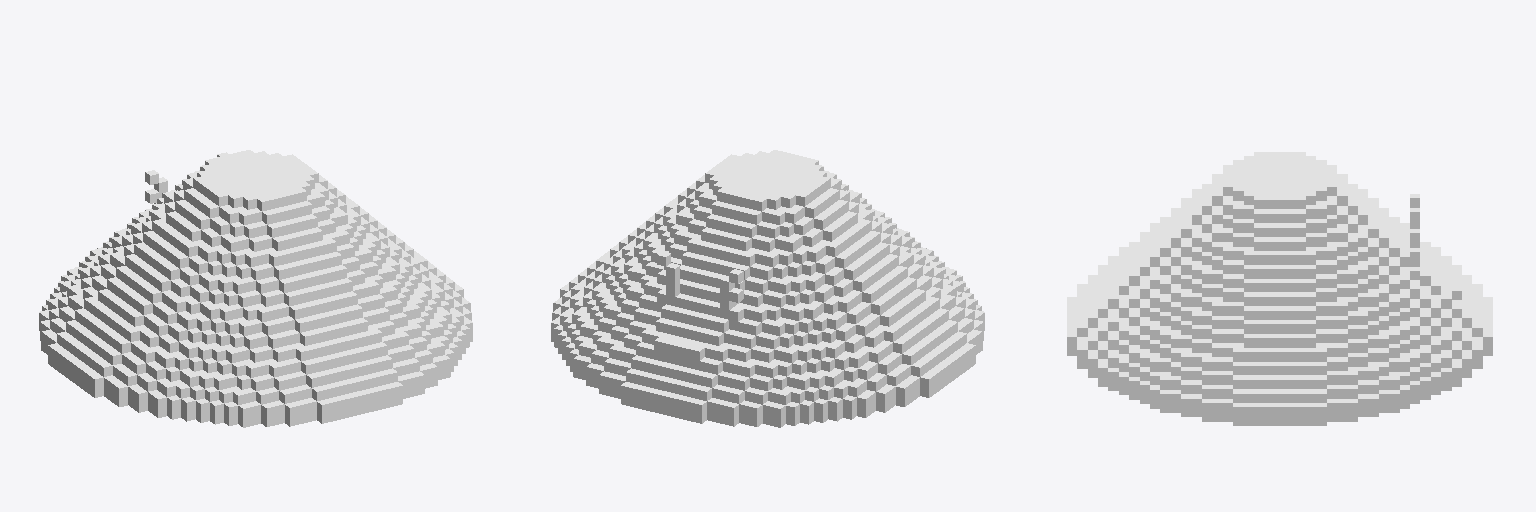
The model's file is mountainAttacked.obj.
3 views of the same model, side by side, from view 1: azimuth 30°, elevation 25°; view 2: azimuth 150°, elevation 25°; view 3: azimuth 270°, elevation 25° (orthographic).
Visible parts, largest first — view 1: object 1; view 2: object 1; view 3: object 1.
Part boxes in pixels (x1,y1,x2,y2): object 1: (39,150,472,427); object 1: (551,150,984,427); object 1: (1067,152,1492,425).
Size of the model in its own units: 4.1 by 1.7 by 4.1.